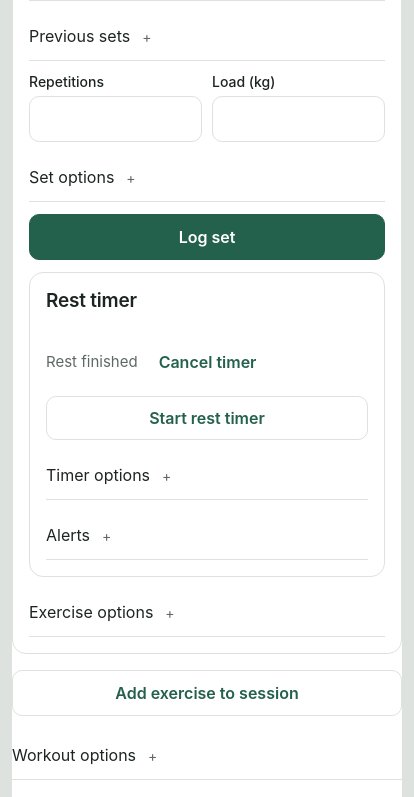
Test: timer display without timer mutations › rest expiry uses countdown meaning without sending a command
(page scrolled)
Expected: the text "Rest finished" is shown, [46,351,138,373]
Expected: the heading "Rest timer" is shown, [46,289,137,312]
Step 1. Click the button "Timer options +" → (98, 475), box [46,452,368,500]
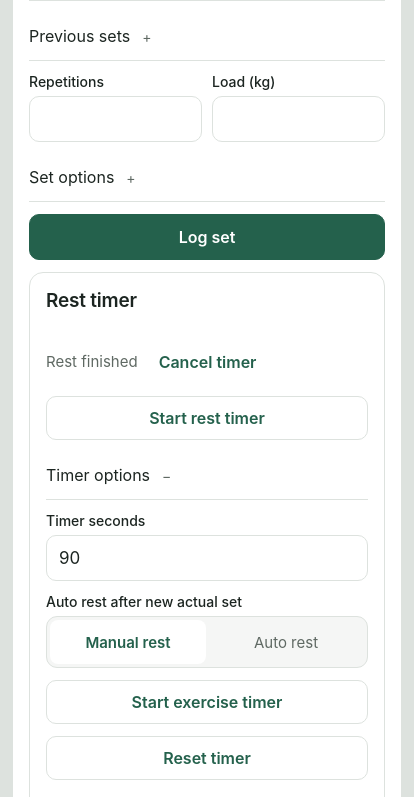
Now the button "Reset timer" is shown, box [46,736,368,780]
